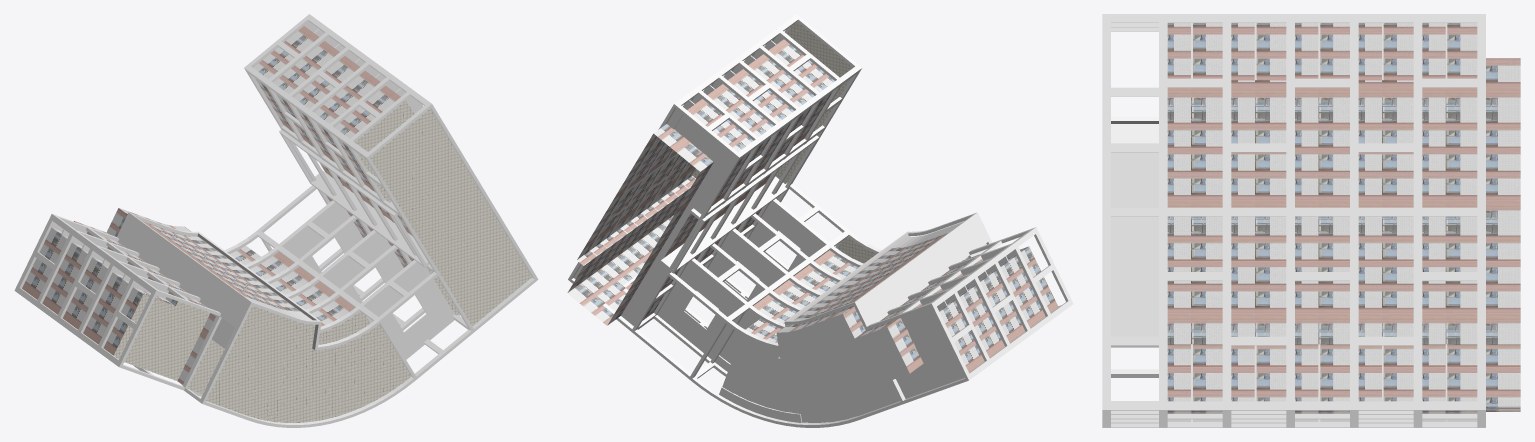
3 views of the same model, side by side, from view 1: azimuth 30°, elevation 25°; view 2: azimuth 150°, elevation 25°; view 3: azimuth 270°, elevation 25° (orthographic). The views are drawn at different scales.
Visible parts, largest first — view 1: 教师宿舍 3.1, 教师宿舍 3.9, 教师宿舍 3.6, 教师宿舍 3.7, 教师宿舍 3.3, 教师宿舍 3.8, 教师宿舍 3.4, 教师宿舍 3.5, 教师宿舍 3.2; view 2: 教师宿舍 3.6, 教师宿舍 3.7, 教师宿舍 3.9, 教师宿舍 3.3, 教师宿舍 3.8, 教师宿舍 3.4, 教师宿舍 3.5, 教师宿舍 3.1, 教师宿舍 3.2; view 3: 教师宿舍 3.7, 教师宿舍 3.9, 教师宿舍 3.8, 教师宿舍 3.2, 教师宿舍 3.5.
Part boxes in pixels (x1,y1,x2,y2): 教师宿舍 3.1: (206,109,531,422); 教师宿舍 3.9: (14,14,538,427); 教师宿舍 3.6: (22,208,370,393); 教师宿舍 3.7: (253,26,458,315); 教师宿舍 3.3: (117,129,429,350); 教师宿舍 3.8: (17,16,468,422); 教师宿舍 3.4: (284,204,453,357); 教师宿舍 3.5: (51,21,421,298); 教师宿舍 3.2: (212,296,312,348); 教师宿舍 3.6: (719,233,1058,422); 教师宿舍 3.7: (567,39,834,325); 教师宿舍 3.9: (568,14,1073,427); 教师宿舍 3.3: (659,135,990,330); 教师宿舍 3.8: (608,16,1070,421); 教师宿舍 3.4: (657,202,824,359); 教师宿舍 3.5: (573,35,1015,422); 教师宿舍 3.1: (766,22,876,263); 教师宿舍 3.2: (893,221,987,256); 教师宿舍 3.7: (1167,23,1520,413); 教师宿舍 3.9: (1102,14,1485,427); 教师宿舍 3.8: (1111,14,1477,427); 教师宿舍 3.2: (1111,124,1158,347); 教师宿舍 3.5: (1191,23,1447,421).
Size of the model in its own units: 75.08 by 52.75 by 43.4.
Materials: 4 (2 with a texture image).
